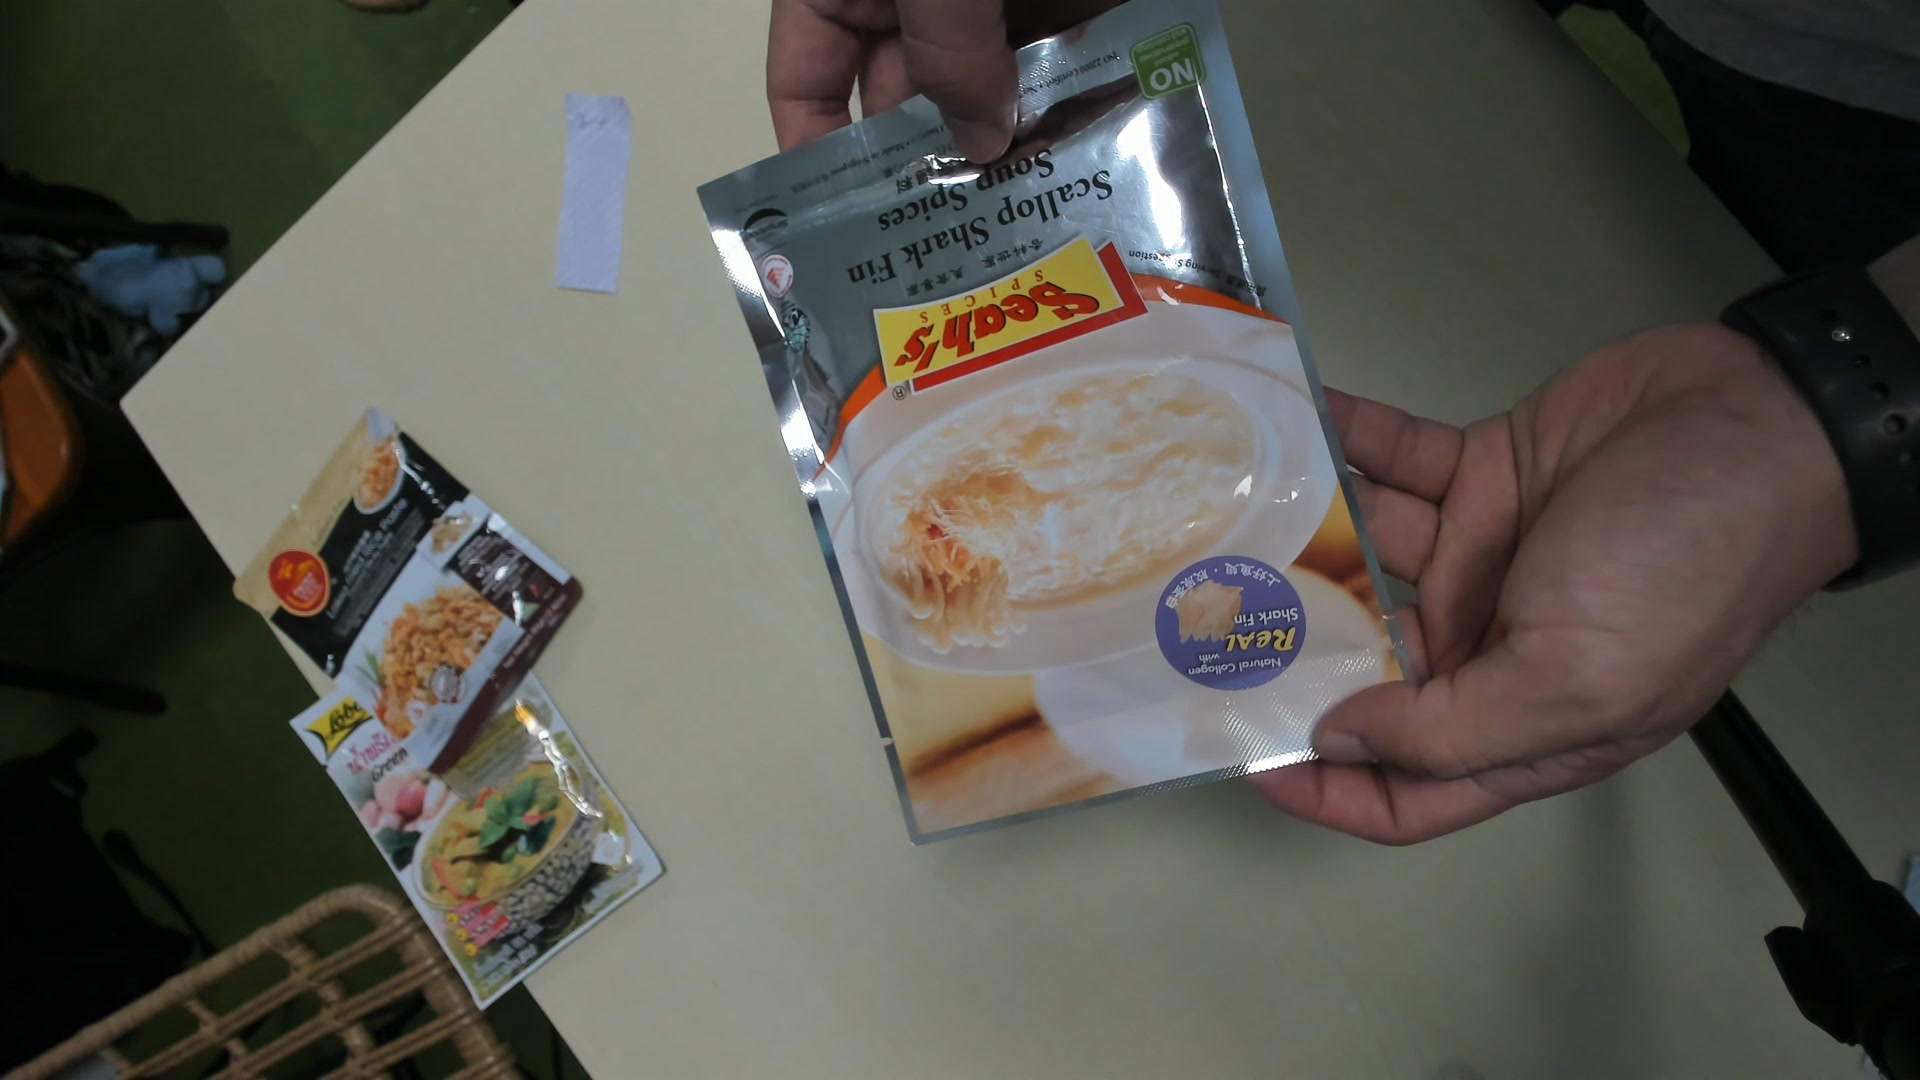OtherSauceDressing_0-99g_Halal_NonHealthy: (694, 9, 1422, 852)
